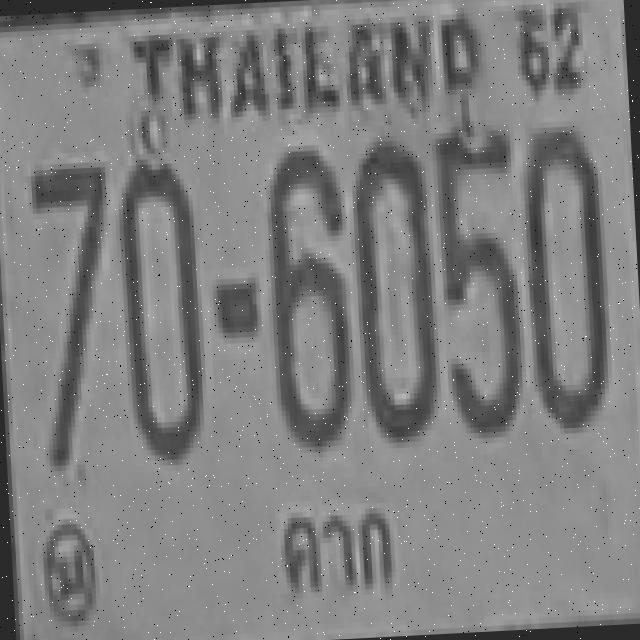0: (517, 122, 611, 427), (112, 157, 206, 462), (346, 134, 440, 439)
6: (263, 147, 352, 446)
7: (28, 160, 118, 448), (28, 159, 115, 405), (28, 159, 112, 356)
Tak: (268, 494, 406, 606)
